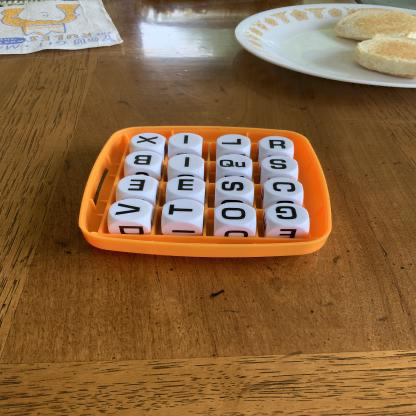b: (127, 152, 162, 168)
c: (266, 178, 304, 198)
e: (118, 176, 157, 195), (168, 177, 206, 196)
g: (267, 204, 310, 227)
i: (169, 155, 205, 172), (170, 134, 203, 149)
l: (218, 135, 251, 151)
o: (216, 203, 256, 226)
qu: (218, 155, 253, 173)
r: (260, 137, 294, 153)
s: (217, 177, 255, 197), (263, 157, 299, 174)
t: (164, 200, 204, 222)
v: (110, 200, 152, 222)
x: (133, 134, 166, 148)
